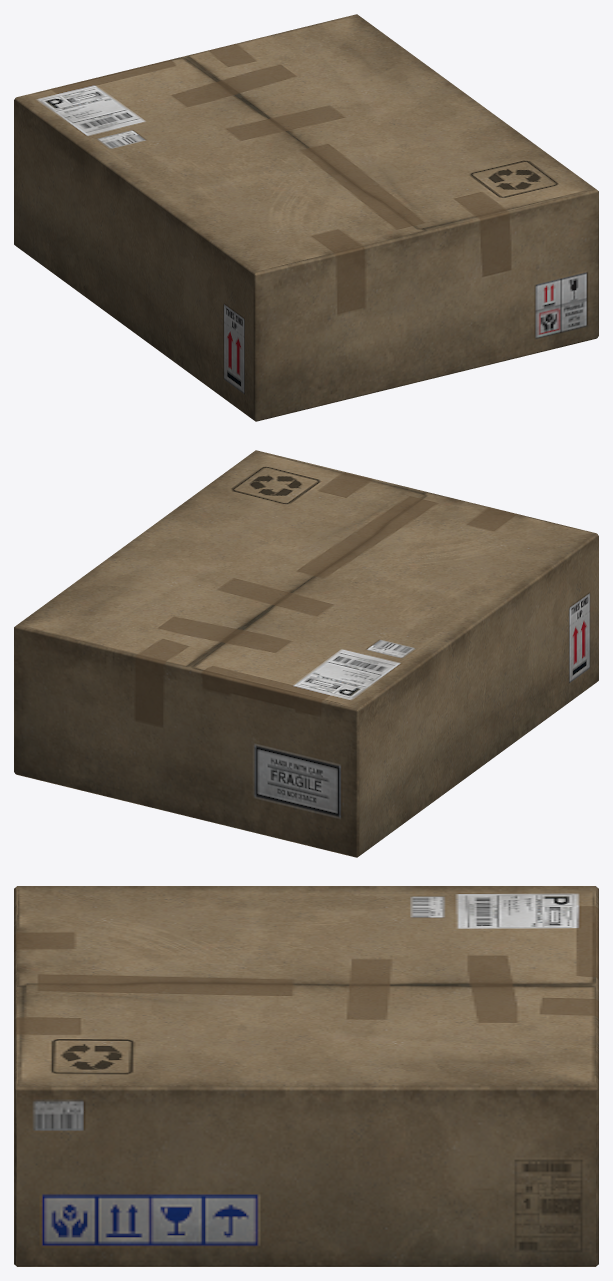
File: Pack_01.fbx
3 renders of one model, top to bottom at view 1: azimuth 30°, elevation 25°; view 2: azimuth 150°, elevation 25°; view 3: azimuth 270°, elevation 25°, orthographic. The views are drawn at different scales.
Visible parts, largest first — view 1: polySurface13; view 2: polySurface13; view 3: polySurface13.
Part boxes in pixels (box(x1,y1,x2,y2)): polySurface13: box(14, 14, 598, 421); polySurface13: box(14, 450, 598, 857); polySurface13: box(14, 886, 598, 1266).
Size of the model in its own units: 59.47 by 24.53 by 72.24.
